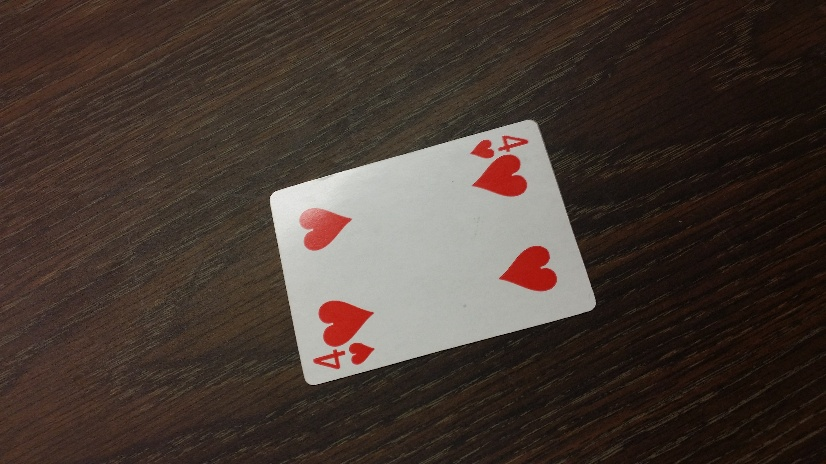H4: (312, 341, 375, 372), (472, 133, 529, 162)
